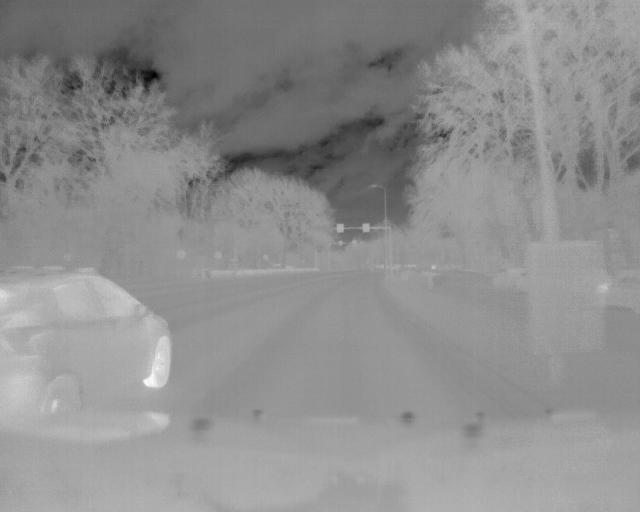car: (1, 267, 173, 406)
